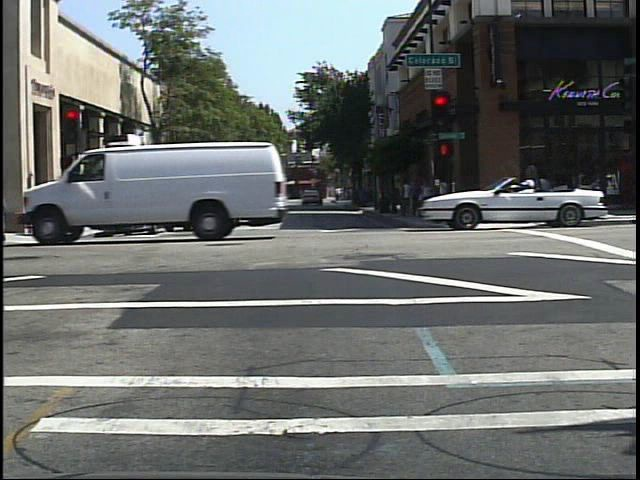person: (90, 180, 110, 229)
